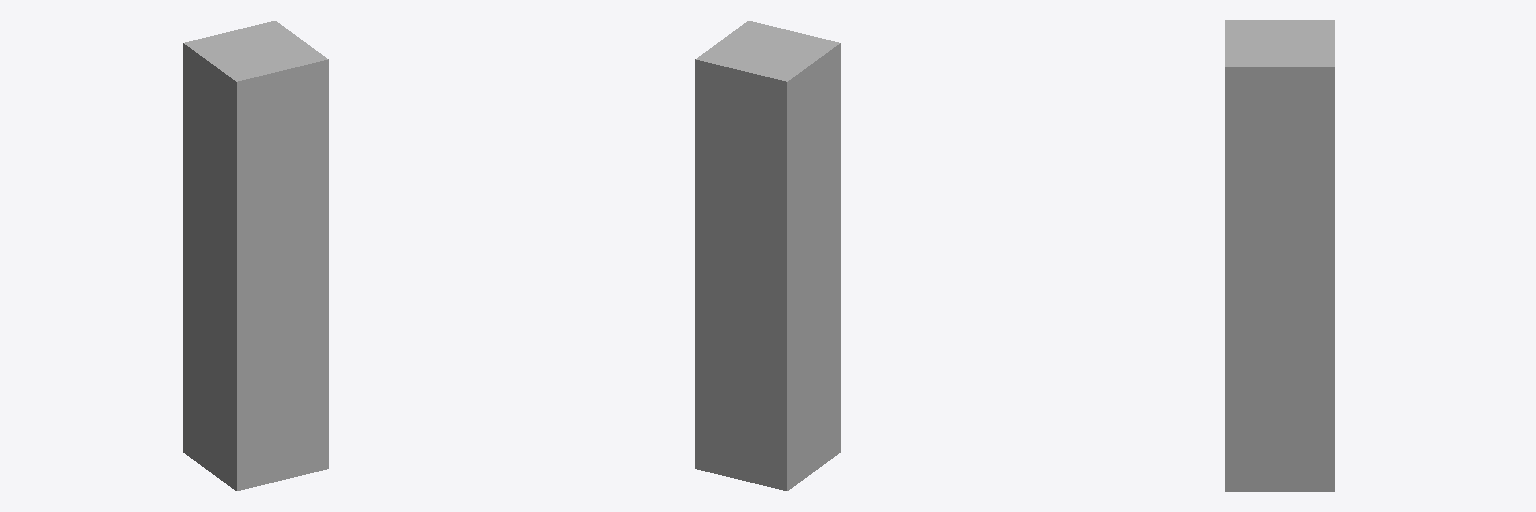
URDF robot description (Assembly):
<?xml version="1.0" encoding="utf-8"?>
<!-- This URDF was automatically created by SolidWorks to URDF Exporter! Originally created by [author] ([email redacted]) 
     Commit Version: 1.5.1-0-g916b5db  Build Version: 1.5.7152.31018
     For more information, please see http://wiki.ros.org/sw_urdf_exporter -->
<robot
  name="Assembly">
  <link
    name="base_link">
    <inertial>
      <origin
        xyz="-0.1006 0.054931 0.12976"
        rpy="0 0 0" />
      <mass
        value="6.5874" />
      <inertia
        ixx="0.022559"
        ixy="3.2694E-07"
        ixz="-8.1391E-07"
        iyy="0.023049"
        iyz="1.5362E-05"
        izz="0.014407" />
    </inertial>
    <visual>
      <origin
        xyz="0 0 0"
        rpy="0 0 0" />
      <geometry>
        <mesh
          filename="package://Assembly/meshes/base_link.STL" />
      </geometry>
      <material
        name="">
        <color
          rgba="0.75294 0.75294 0.75294 1" />
      </material>
    </visual>
    <collision>
      <origin
        xyz="0 0 0"
        rpy="0 0 0" />
      <geometry>
        <mesh
          filename="package://Assembly/meshes/base_link.STL" />
      </geometry>
    </collision>
  </link>
  <link
    name="RFW">
    <inertial>
      <origin
        xyz="0.017684 0 3.4694E-18"
        rpy="0 0 0" />
      <mass
        value="0.19359" />
      <inertia
        ixx="0.00025308"
        ixy="1.2557E-23"
        ixz="5.4877E-21"
        iyy="0.00013682"
        iyz="4.2352E-22"
        izz="0.00013682" />
    </inertial>
    <visual>
      <origin
        xyz="0 0 0"
        rpy="0 0 0" />
      <geometry>
        <mesh
          filename="package://Assembly/meshes/RFW.STL" />
      </geometry>
      <material
        name="">
        <color
          rgba="1 1 1 1" />
      </material>
    </visual>
    <collision>
      <origin
        xyz="0 0 0"
        rpy="0 0 0" />
      <geometry>
        <mesh
          filename="package://Assembly/meshes/RFW.STL" />
      </geometry>
    </collision>
  </link>
  <joint
    name="RFW"
    type="continuous">
    <origin
      xyz="0.071753 -0.021399 -0.034801"
      rpy="1.6034 0 0" />
    <parent
      link="base_link" />
    <child
      link="RFW" />
    <axis
      xyz="1 0 0" />
    <limit
      effort="3.1"
      velocity="7" />
  </joint>
  <link
    name="LFW">
    <inertial>
      <origin
        xyz="0.017684 4.8572E-17 1.3878E-17"
        rpy="0 0 0" />
      <mass
        value="0.19359" />
      <inertia
        ixx="0.00025308"
        ixy="2.7746E-19"
        ixz="1.0293E-19"
        iyy="0.00013682"
        iyz="-1.0164E-20"
        izz="0.00013682" />
    </inertial>
    <visual>
      <origin
        xyz="0 0 0"
        rpy="0 0 0" />
      <geometry>
        <mesh
          filename="package://Assembly/meshes/LFW.STL" />
      </geometry>
      <material
        name="">
        <color
          rgba="1 1 1 1" />
      </material>
    </visual>
    <collision>
      <origin
        xyz="0 0 0"
        rpy="0 0 0" />
      <geometry>
        <mesh
          filename="package://Assembly/meshes/LFW.STL" />
      </geometry>
    </collision>
  </link>
  <joint
    name="LFW"
    type="continuous">
    <origin
      xyz="-0.27175 -0.021399 -0.034803"
      rpy="-0.3918 0 3.1416" />
    <parent
      link="base_link" />
    <child
      link="LFW" />
    <axis
      xyz="1 0 0" />
    <limit
      effort="3.1"
      velocity="7" />
  </joint>
  <link
    name="RBW">
    <inertial>
      <origin
        xyz="0.017684 -1.3878E-17 2.7756E-17"
        rpy="0 0 0" />
      <mass
        value="0.19359" />
      <inertia
        ixx="0.00025308"
        ixy="-2.9665E-22"
        ixz="5.6131E-21"
        iyy="0.00013682"
        iyz="-6.7763E-21"
        izz="0.00013682" />
    </inertial>
    <visual>
      <origin
        xyz="0 0 0"
        rpy="0 0 0" />
      <geometry>
        <mesh
          filename="package://Assembly/meshes/RBW.STL" />
      </geometry>
      <material
        name="">
        <color
          rgba="1 1 1 1" />
      </material>
    </visual>
    <collision>
      <origin
        xyz="0 0 0"
        rpy="0 0 0" />
      <geometry>
        <mesh
          filename="package://Assembly/meshes/RBW.STL" />
      </geometry>
    </collision>
  </link>
  <joint
    name="RBW"
    type="continuous">
    <origin
      xyz="0.071753 -0.2186 -0.034803"
      rpy="1.2055 0 0" />
    <parent
      link="base_link" />
    <child
      link="RBW" />
    <axis
      xyz="1 0 0" />
    <limit
      effort="3.1"
      velocity="7" />
  </joint>
  <link
    name="LBW">
    <inertial>
      <origin
        xyz="0.017684 0 0"
        rpy="0 0 0" />
      <mass
        value="0.19359" />
      <inertia
        ixx="0.00025308"
        ixy="1.711E-20"
        ixz="-3.2823E-21"
        iyy="0.00013682"
        iyz="-1.3553E-20"
        izz="0.00013682" />
    </inertial>
    <visual>
      <origin
        xyz="0 0 0"
        rpy="0 0 0" />
      <geometry>
        <mesh
          filename="package://Assembly/meshes/LBW.STL" />
      </geometry>
      <material
        name="">
        <color
          rgba="1 1 1 1" />
      </material>
    </visual>
    <collision>
      <origin
        xyz="0 0 0"
        rpy="0 0 0" />
      <geometry>
        <mesh
          filename="package://Assembly/meshes/LBW.STL" />
      </geometry>
    </collision>
  </link>
  <joint
    name="LBW"
    type="continuous">
    <origin
      xyz="-0.27175 -0.218 -0.034801"
      rpy="-0.3918 0 3.1416" />
    <parent
      link="base_link" />
    <child
      link="LBW" />
    <axis
      xyz="1 0 0" />
    <limit
      effort="3.1"
      velocity="7" />
  </joint>
  <link
    name="RFS">
    <inertial>
      <origin
        xyz="0 -6.9389E-17 -0.0425"
        rpy="0 0 0" />
      <mass
        value="0.2618" />
      <inertia
        ixx="0.00016635"
        ixy="2.1661E-22"
        ixz="2.5566E-20"
        iyy="0.00016635"
        iyz="-2.5289E-19"
        izz="1.7453E-05" />
    </inertial>
    <visual>
      <origin
        xyz="0 0 0"
        rpy="0 0 0" />
      <geometry>
        <mesh
          filename="package://Assembly/meshes/RFS.STL" />
      </geometry>
      <material
        name="">
        <color
          rgba="0.77647 0.75686 0.73725 1" />
      </material>
    </visual>
    <collision>
      <origin
        xyz="0 0 0"
        rpy="0 0 0" />
      <geometry>
        <mesh
          filename="package://Assembly/meshes/RFS.STL" />
      </geometry>
    </collision>
  </link>
  <joint
    name="RFS"
    type="fixed">
    <origin
      xyz="0.043003 -0.034999 0.014998"
      rpy="-3.1416 0 1.5708" />
    <parent
      link="base_link" />
    <child
      link="RFS" />
    <axis
      xyz="0 0 0" />
  </joint>
  <link
    name="LFS">
    <inertial>
      <origin
        xyz="0 -6.9389E-18 0.0425"
        rpy="0 0 0" />
      <mass
        value="0.2618" />
      <inertia
        ixx="0.00016635"
        ixy="2.5265E-21"
        ixz="-1.0151E-19"
        iyy="0.00016635"
        iyz="1.4542E-20"
        izz="1.7453E-05" />
    </inertial>
    <visual>
      <origin
        xyz="0 0 0"
        rpy="0 0 0" />
      <geometry>
        <mesh
          filename="package://Assembly/meshes/LFS.STL" />
      </geometry>
      <material
        name="">
        <color
          rgba="0.77647 0.75686 0.73725 1" />
      </material>
    </visual>
    <collision>
      <origin
        xyz="0 0 0"
        rpy="0 0 0" />
      <geometry>
        <mesh
          filename="package://Assembly/meshes/LFS.STL" />
      </geometry>
    </collision>
  </link>
  <joint
    name="LFS"
    type="fixed">
    <origin
      xyz="-0.243 -0.034999 0.099998"
      rpy="3.1416 0 0" />
    <parent
      link="base_link" />
    <child
      link="LFS" />
    <axis
      xyz="0 0 0" />
  </joint>
  <link
    name="RBS">
    <inertial>
      <origin
        xyz="0 0 -0.0425"
        rpy="0 0 0" />
      <mass
        value="0.2618" />
      <inertia
        ixx="0.00016635"
        ixy="-1.6847E-21"
        ixz="-2.2739E-20"
        iyy="0.00016635"
        iyz="-1.3114E-20"
        izz="1.7453E-05" />
    </inertial>
    <visual>
      <origin
        xyz="0 0 0"
        rpy="0 0 0" />
      <geometry>
        <mesh
          filename="package://Assembly/meshes/RBS.STL" />
      </geometry>
      <material
        name="">
        <color
          rgba="0.77647 0.75686 0.73725 1" />
      </material>
    </visual>
    <collision>
      <origin
        xyz="0 0 0"
        rpy="0 0 0" />
      <geometry>
        <mesh
          filename="package://Assembly/meshes/RBS.STL" />
      </geometry>
    </collision>
  </link>
  <joint
    name="RBS"
    type="fixed">
    <origin
      xyz="0.043003 -0.205 0.014998"
      rpy="-3.1416 0 -1.5708" />
    <parent
      link="base_link" />
    <child
      link="RBS" />
    <axis
      xyz="0 0 0" />
  </joint>
  <link
    name="LBS">
    <inertial>
      <origin
        xyz="-0.1006 0.054931 0.12976"
        rpy="0 0 0" />
      <mass
        value="0.2618" />
      <inertia
        ixx="0.022559"
        ixy="3.2694E-07"
        ixz="-8.1391E-07"
        iyy="0.023049"
        iyz="1.5362E-05"
        izz="0.014407" />
    </inertial>
    <visual>
      <origin
        xyz="0 0 0"
        rpy="0 0 0" />
      <geometry>
        <mesh
          filename="package://Assembly/meshes/LBS.STL" />
      </geometry>
      <material
        name="">
        <color
          rgba="0.75294 0.75294 0.75294 1" />
      </material>
    </visual>
    <collision>
      <origin
        xyz="0 0 0"
        rpy="0 0 0" />
      <geometry>
        <mesh
          filename="package://Assembly/meshes/LBS.STL" />
      </geometry>
    </collision>
  </link>
  <joint
    name="LBS"
    type="fixed">
    <origin
      xyz="-0.243 -0.205 0.099998"
      rpy="3.1416 0 -1.5708" />
    <parent
      link="base_link" />
    <child
      link="LBS" />
    <axis
      xyz="0 0 0" />
  </joint>
</robot>

--- Render facts (derived) ---
The picture shows the robot from 3 angles, left to right: view 1: azimuth 30°, elevation 25°; view 2: azimuth 150°, elevation 25°; view 3: azimuth 270°, elevation 25°; orthographic projection.
Robot: Assembly — 9 links, 8 joints (4 continuous, 4 fixed); root link base_link; default pose: all joints at 0.
Visible links, largest first — view 1: LBS; view 2: LBS; view 3: LBS.
Link boxes in pixels (left/top/right/bottom): LBS: left=183, top=21, right=328, bottom=490; LBS: left=695, top=21, right=840, bottom=490; LBS: left=1225, top=20, right=1334, bottom=491.
Bounding box of the posed robot: 0.02 × 0.02 × 0.085 m (x, y, z).
1 mesh visuals loaded from 9 distinct referenced files (1 binary STL); not drawn: 8 (reference not matched to a file when rendering).